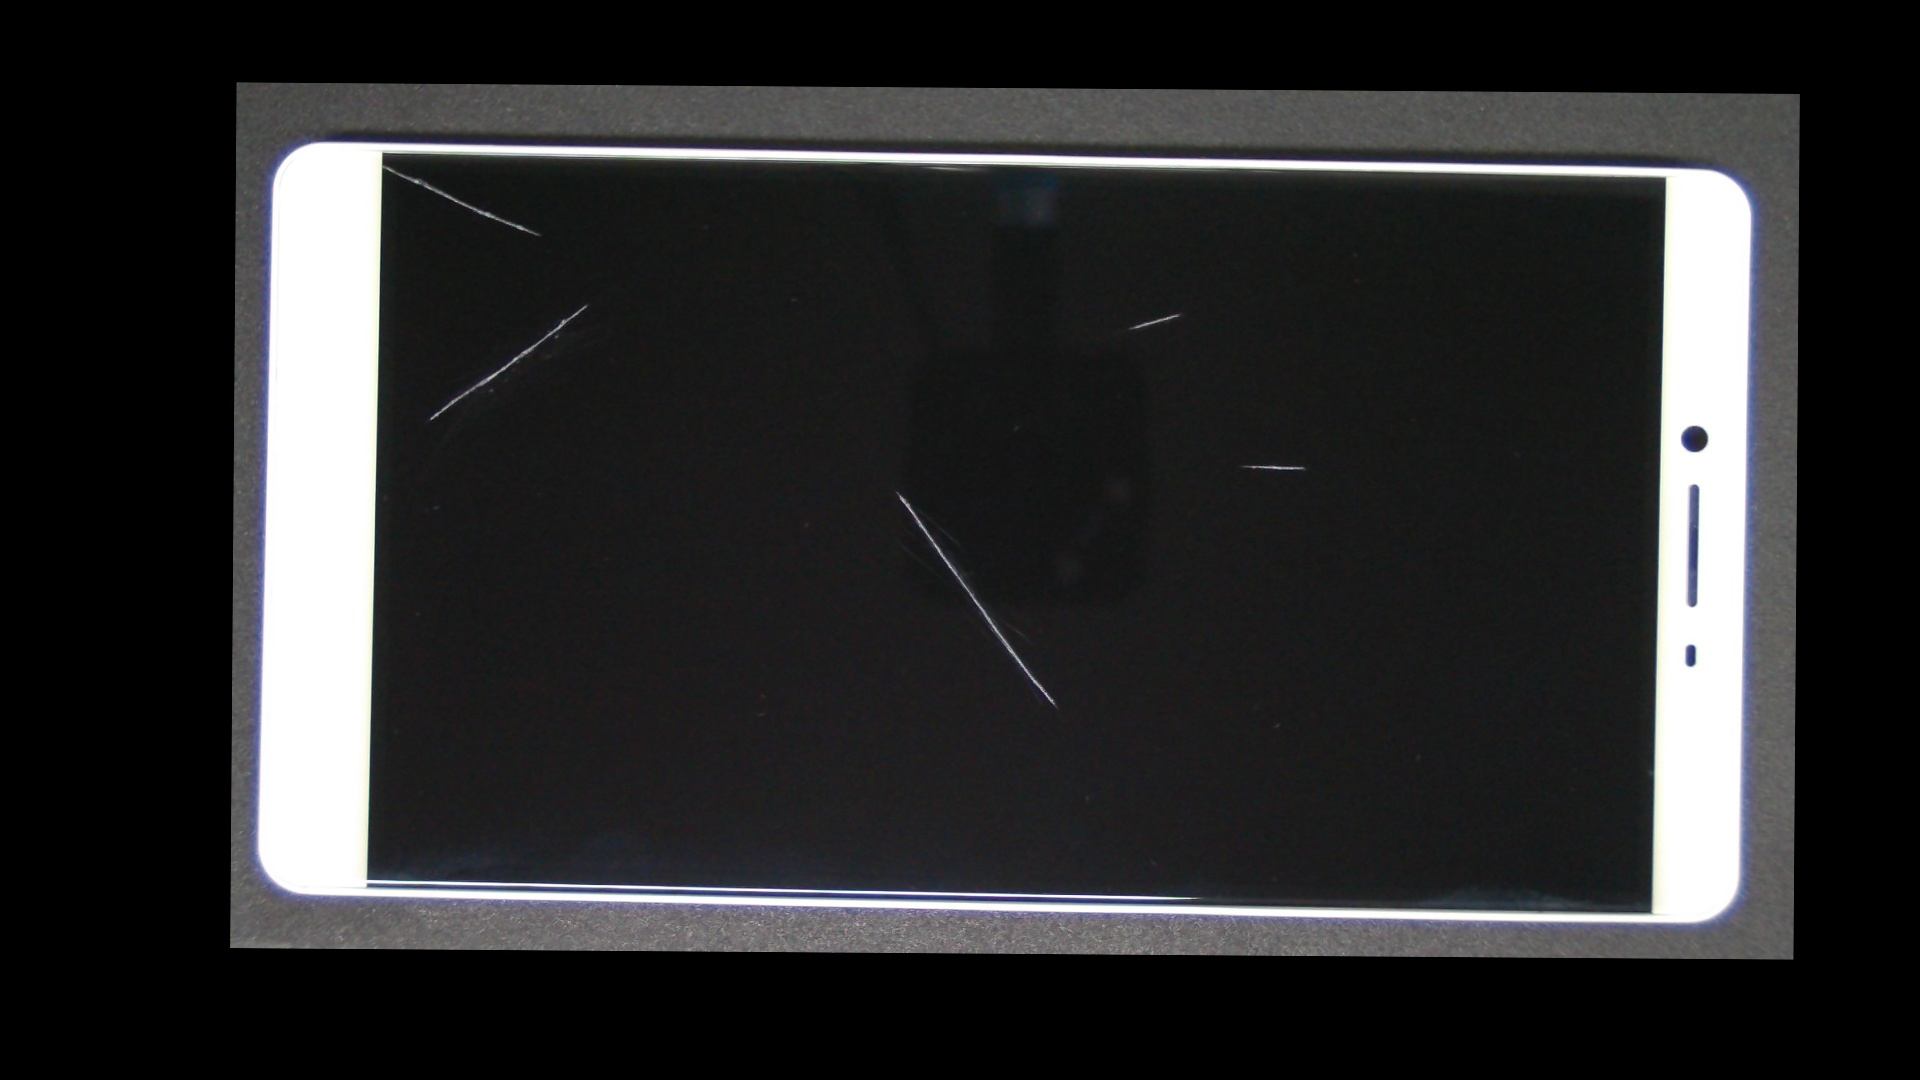oil: (750, 273, 1788, 655), (563, 286, 1228, 695), (707, 198, 1651, 429), (410, 193, 761, 414), (311, 123, 459, 206)
